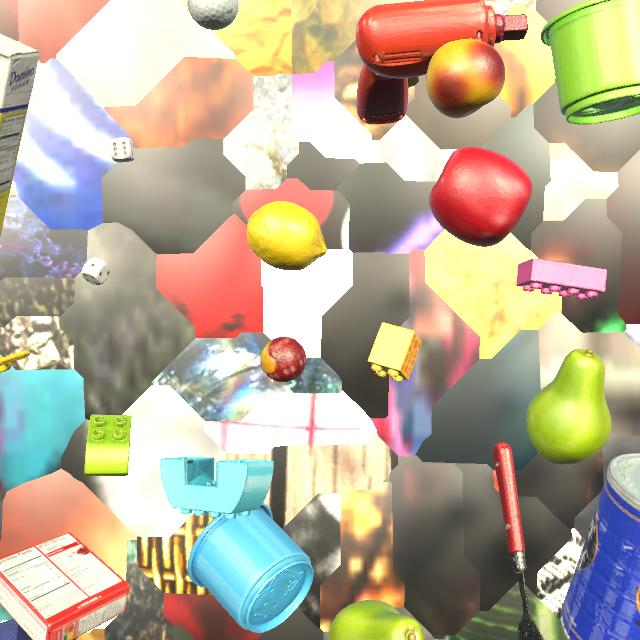ycb_002_master_chef_can: (560, 453, 640, 640)
ycb_004_sugar_box: (0, 34, 40, 237)
ycb_009_gelatin_box: (0, 532, 130, 640)
ycb_013_apple: (429, 147, 532, 247)
ycb_014_lemon: (247, 201, 327, 271)
ycb_015_peach: (426, 39, 505, 118)
ycb_016_pear: (526, 349, 611, 465), (328, 600, 425, 640)
